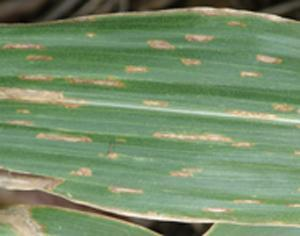Gray_Leaf_Spot: (0, 166, 65, 200), (66, 200, 154, 225), (150, 129, 254, 150), (155, 215, 300, 229), (72, 6, 218, 19), (16, 73, 126, 90), (0, 89, 87, 110), (217, 6, 300, 27), (226, 101, 300, 118), (34, 131, 94, 144), (1, 40, 48, 55), (166, 166, 208, 180), (141, 36, 175, 53), (250, 51, 285, 67), (104, 183, 146, 195), (184, 29, 214, 44), (67, 164, 93, 181), (176, 54, 204, 69), (199, 203, 234, 215), (0, 118, 32, 130), (139, 97, 170, 109), (237, 67, 263, 81), (237, 193, 261, 208), (22, 55, 55, 64), (120, 64, 149, 74), (95, 150, 121, 161), (112, 136, 130, 144), (290, 147, 300, 161), (13, 108, 29, 116), (85, 29, 97, 38), (286, 203, 300, 210)
